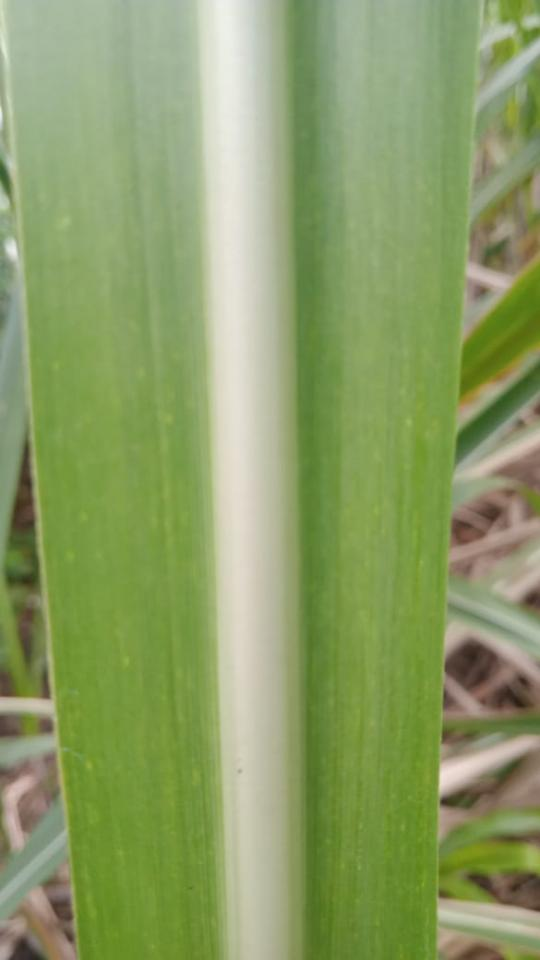Healthy: (5, 0, 477, 959)
